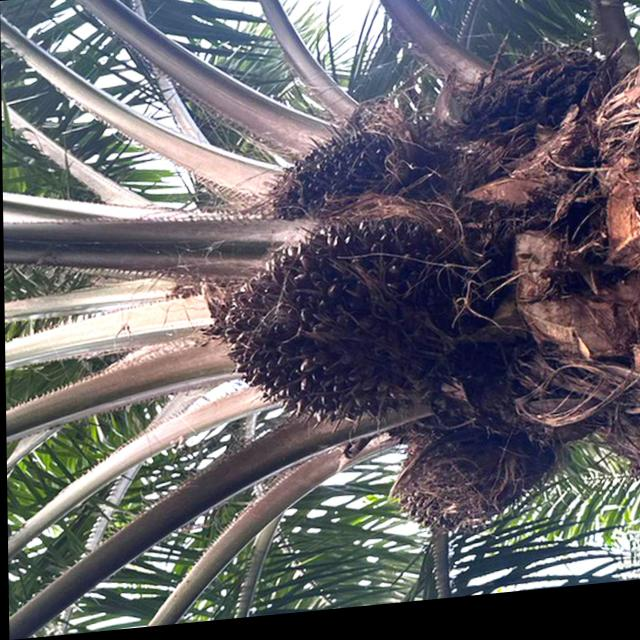ripe: (195, 198, 483, 459)
